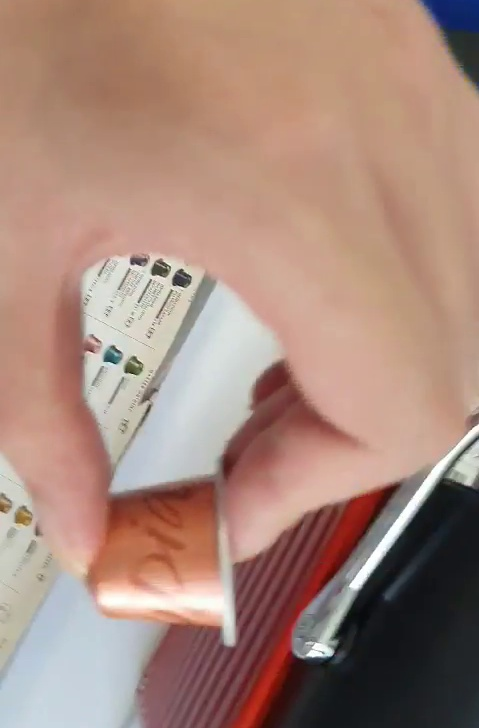capsule_6: (77, 464, 247, 652)
